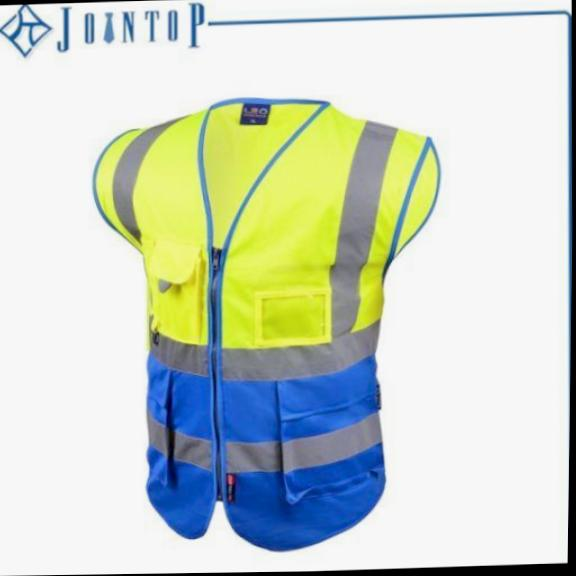safety_vest: (82, 90, 450, 557)
